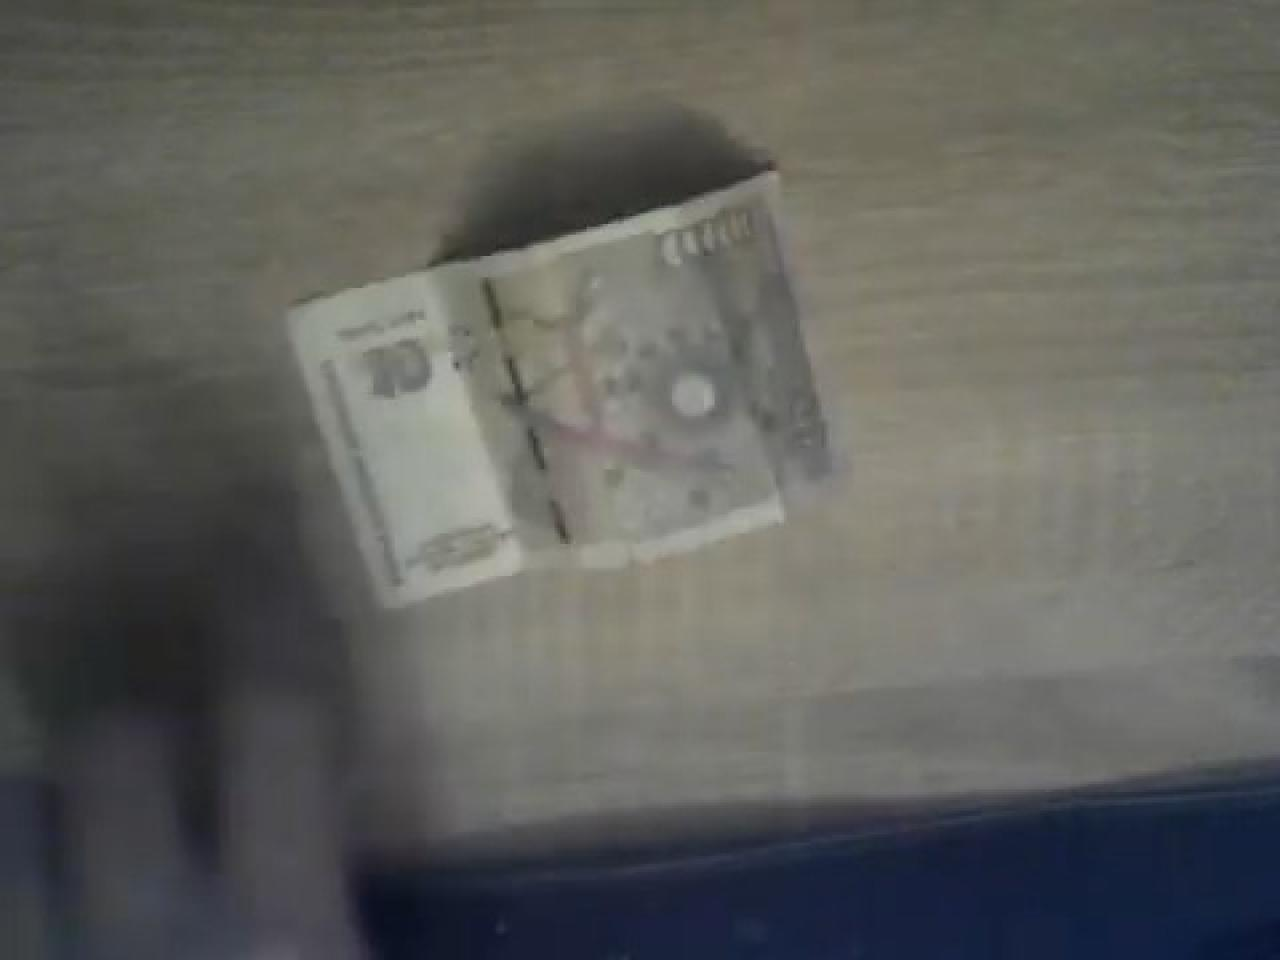10leva: (299, 306, 483, 428)
